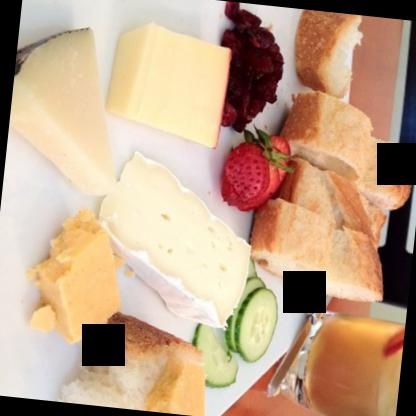bread: (271, 90, 415, 211), (244, 202, 395, 306), (59, 317, 217, 415), (272, 156, 394, 249), (286, 9, 362, 107)
cucumber: (183, 318, 242, 392), (228, 284, 284, 361)
parmesan cheese: (100, 156, 249, 326), (96, 21, 232, 145)
strawberry: (216, 131, 290, 214)
